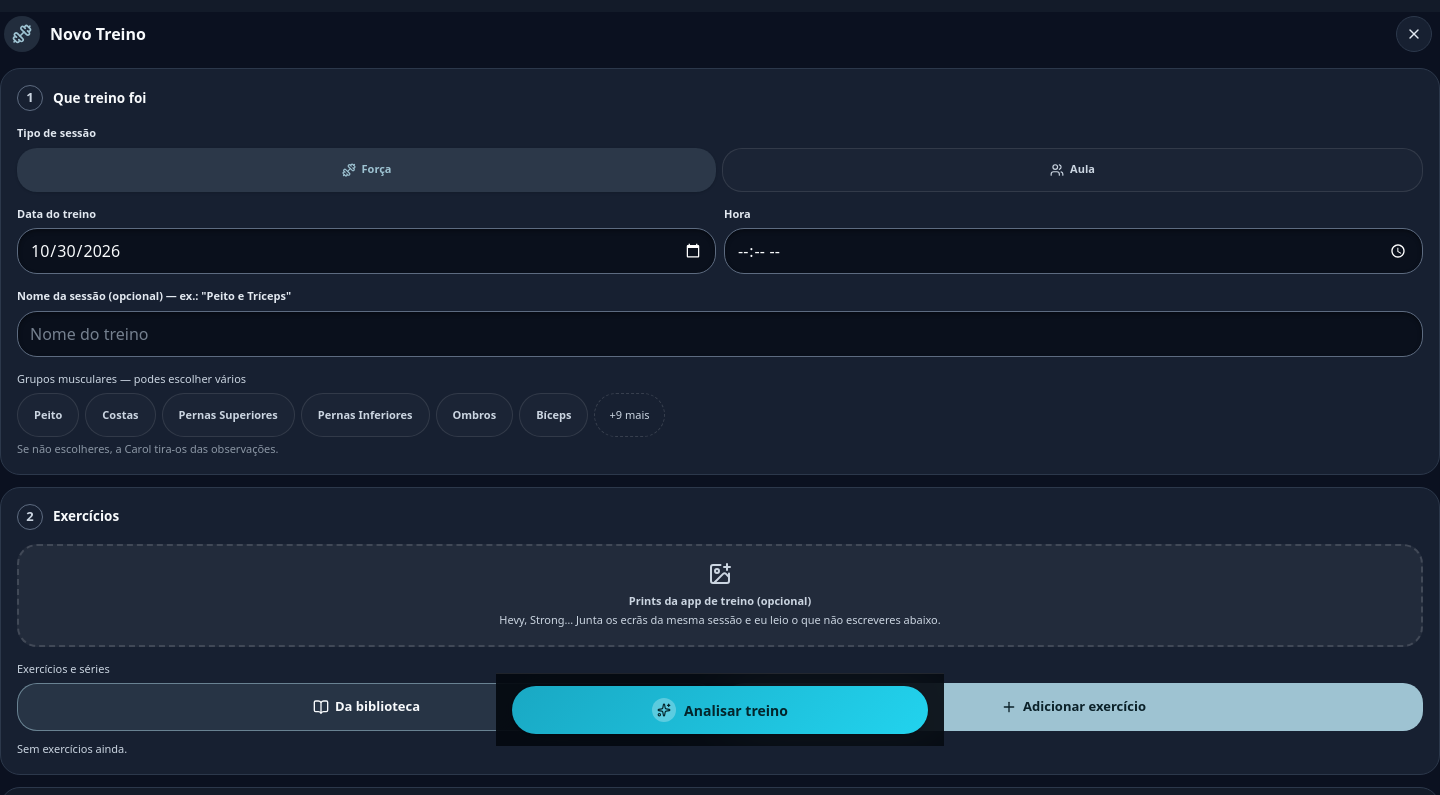
Test: GymRegistration — aula: modalidade e grupos musculares à parte › sem grupos musculares escolhidos, avisa que a Carol os tira das observações
Expected: the text "Se não escolheres, a Carol tira-os das observações." is shown, [17,441,278,456]
Click the button "Peito". click: click(48, 415)
box: [17,393,79,437]
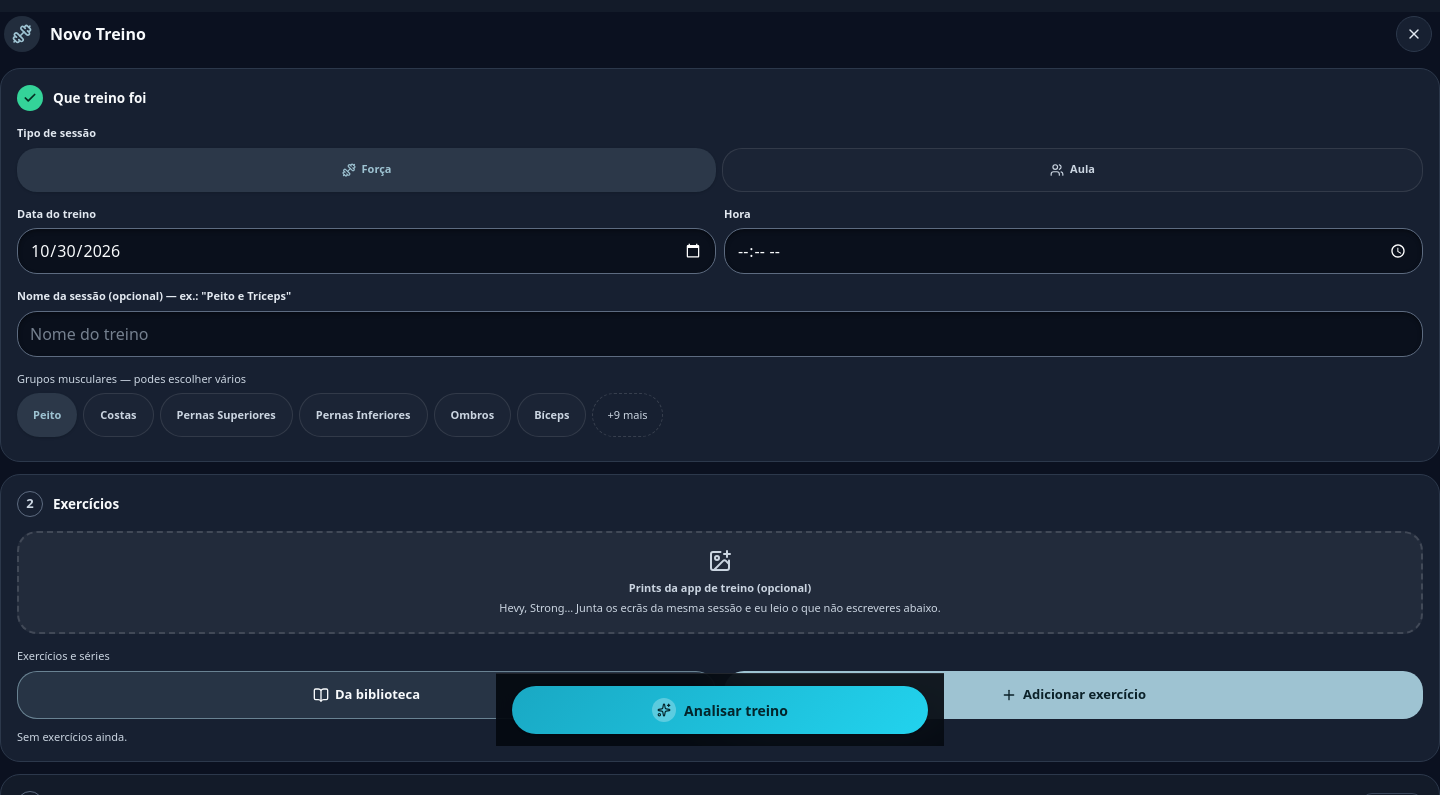
Expected: the text "Se não escolheres, a Carol tira-os das observações." is gone
